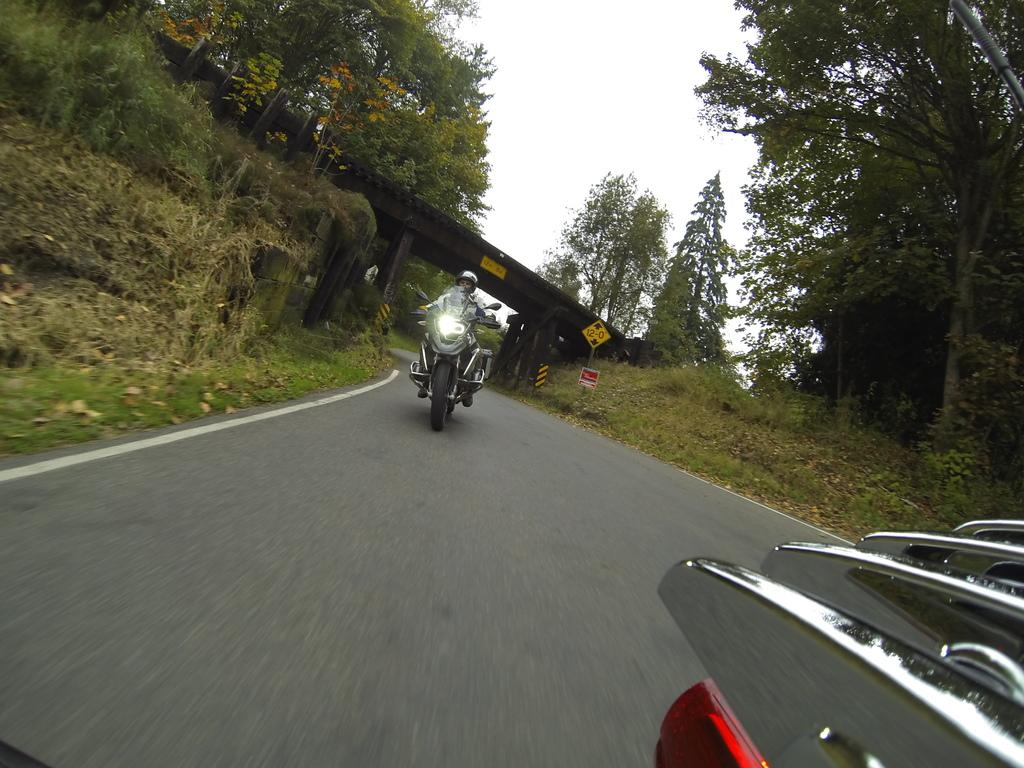helmet: (455, 269, 479, 295)
